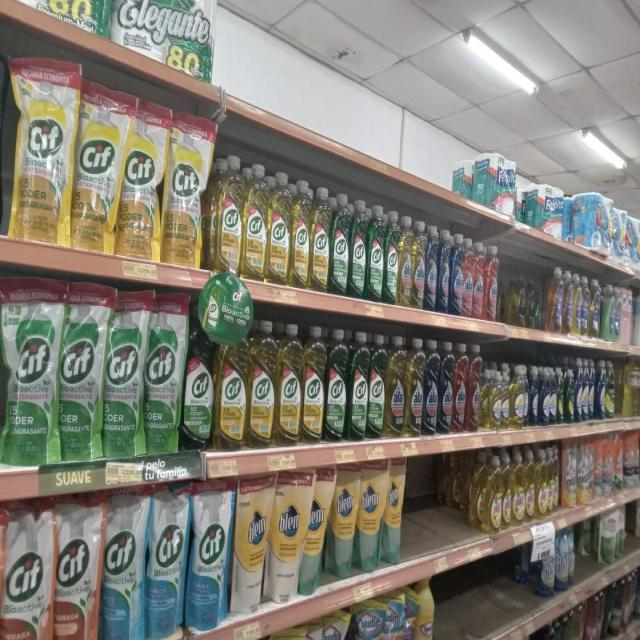ala_conc_amarillo: (386, 335, 405, 438), (406, 337, 423, 437), (398, 215, 412, 308), (412, 219, 425, 310)
ala_conc_azul: (424, 339, 438, 436), (439, 341, 453, 434), (438, 228, 450, 314), (426, 224, 437, 312), (451, 232, 462, 316)
ala_conc_rojo: (453, 342, 467, 433), (468, 343, 480, 432), (485, 244, 498, 322), (463, 237, 473, 318), (474, 241, 484, 319)
cif_conc_bot_amarilla: (216, 319, 247, 451), (249, 319, 276, 449), (215, 155, 242, 277), (277, 322, 301, 447), (243, 162, 267, 280), (302, 324, 325, 444), (268, 170, 290, 284), (291, 178, 310, 288), (311, 186, 330, 292)
cif_conc_botella_verde: (182, 300, 214, 451), (326, 328, 347, 442), (349, 330, 368, 441), (331, 191, 348, 296), (369, 332, 385, 440), (367, 203, 384, 302), (350, 198, 366, 299), (385, 210, 398, 304)
cif_conc_sachet_amarillo: (10, 55, 72, 244), (73, 82, 118, 253), (120, 100, 162, 260), (163, 112, 206, 267)
cif_conc_sachet_verde: (1, 278, 57, 467), (59, 283, 102, 462), (104, 288, 143, 458), (145, 291, 181, 455)
magistral_con_amarillo: (511, 364, 527, 429), (490, 368, 501, 430), (501, 365, 510, 430)
magistral_con_azul: (529, 365, 539, 427), (540, 367, 550, 426), (546, 367, 556, 426), (576, 358, 584, 422), (582, 358, 590, 421)
zorro: (564, 270, 574, 334)
